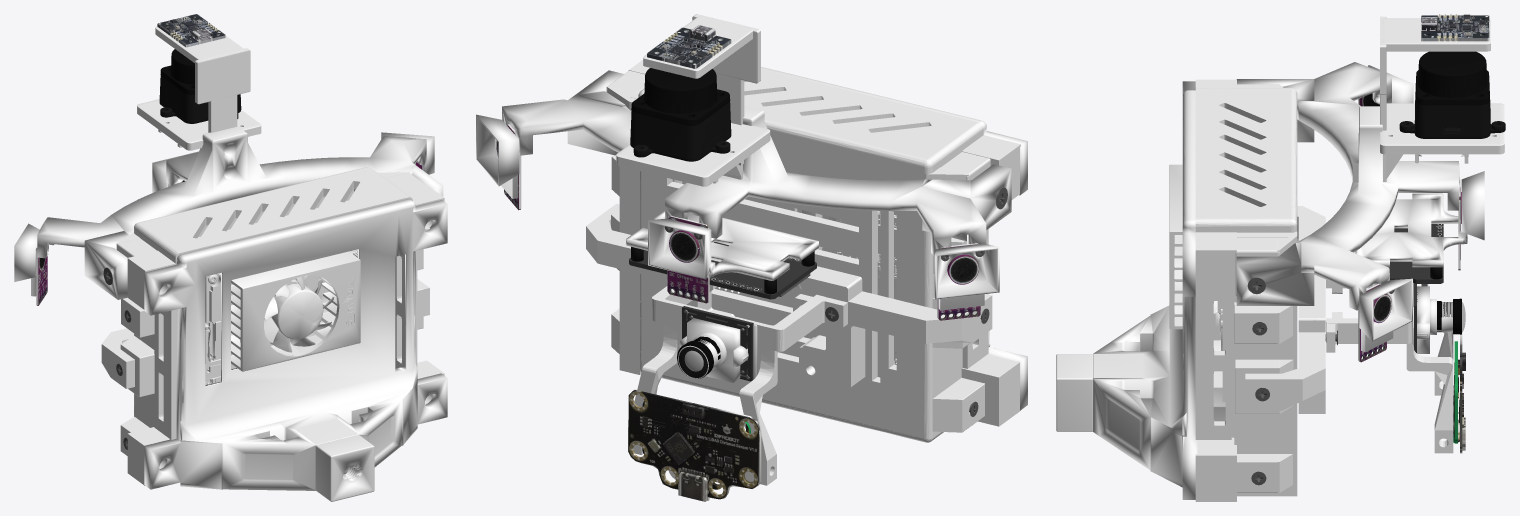
File: module-v3.glb
3 views of the same model, side by side, from view 1: azimuth 30°, elevation 25°; view 2: azimuth 150°, elevation 25°; view 3: azimuth 270°, elevation 25° (orthographic). The views are drawn at different scales.
Visible parts, largest first — view 1: shell-rear, housing-rear, chassis-upper, jetson, mount-top, lidar-ld19, chassis-lower, imu, mic-c; view 2: housing-rear, chassis-upper, chassis-lower, tof-8x8, mount-top, lidar-ld19, camera-ar0234, frame-detail, imu, pcb-core, shell-rear, mic-b (+2 smaller); view 3: housing-rear, chassis-upper, shell-rear, chassis-lower, lidar-ld19, mount-top, jetson, imu, camera-ar0234, pcb-core, frame-detail, mic-a (+2 smaller).
Part boxes in pixels (bbox=[...]): shell-rear: bbox=[144, 199, 447, 501]; housing-rear: bbox=[116, 167, 444, 485]; chassis-upper: bbox=[14, 126, 443, 299]; jetson: bbox=[197, 200, 360, 385]; mount-top: bbox=[137, 26, 261, 150]; lidar-ld19: bbox=[159, 49, 241, 123]; chassis-lower: bbox=[101, 279, 429, 388]; imu: bbox=[157, 14, 225, 47]; mic-c: bbox=[36, 247, 47, 305]; housing-rear: bbox=[606, 60, 1020, 442]; chassis-upper: bbox=[476, 70, 1011, 310]; chassis-lower: bbox=[586, 203, 992, 485]; tof-8x8: bbox=[628, 389, 761, 501]; mount-top: bbox=[616, 14, 770, 186]; lidar-ld19: bbox=[630, 68, 731, 161]; camera-ar0234: bbox=[678, 306, 757, 382]; frame-detail: bbox=[677, 306, 753, 381]; imu: bbox=[647, 25, 731, 68]; pcb-core: bbox=[629, 242, 816, 299]; shell-rear: bbox=[761, 67, 1027, 410]; mic-b: bbox=[667, 216, 709, 303]; housing-rear: bbox=[1195, 79, 1297, 501]; chassis-upper: bbox=[1236, 62, 1484, 352]; shell-rear: bbox=[1056, 81, 1197, 499]; chassis-lower: bbox=[1245, 206, 1453, 453]; lidar-ld19: bbox=[1399, 51, 1505, 138]; mount-top: bbox=[1380, 16, 1504, 181]; jetson: bbox=[1169, 164, 1225, 421]; imu: bbox=[1421, 14, 1489, 41]; camera-ar0234: bbox=[1412, 283, 1465, 353]; pcb-core: bbox=[1389, 224, 1443, 286]; frame-detail: bbox=[1413, 283, 1461, 352]; mic-a: bbox=[1358, 283, 1391, 362].
Size of the model in its own units: 2.41 by 2 by 1.9.
Materials: 27 (4 with a texture image).
